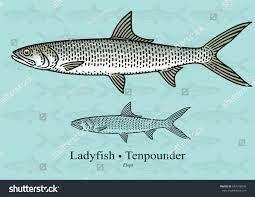Tenpounder: (10, 8, 253, 99), (70, 98, 194, 142)
